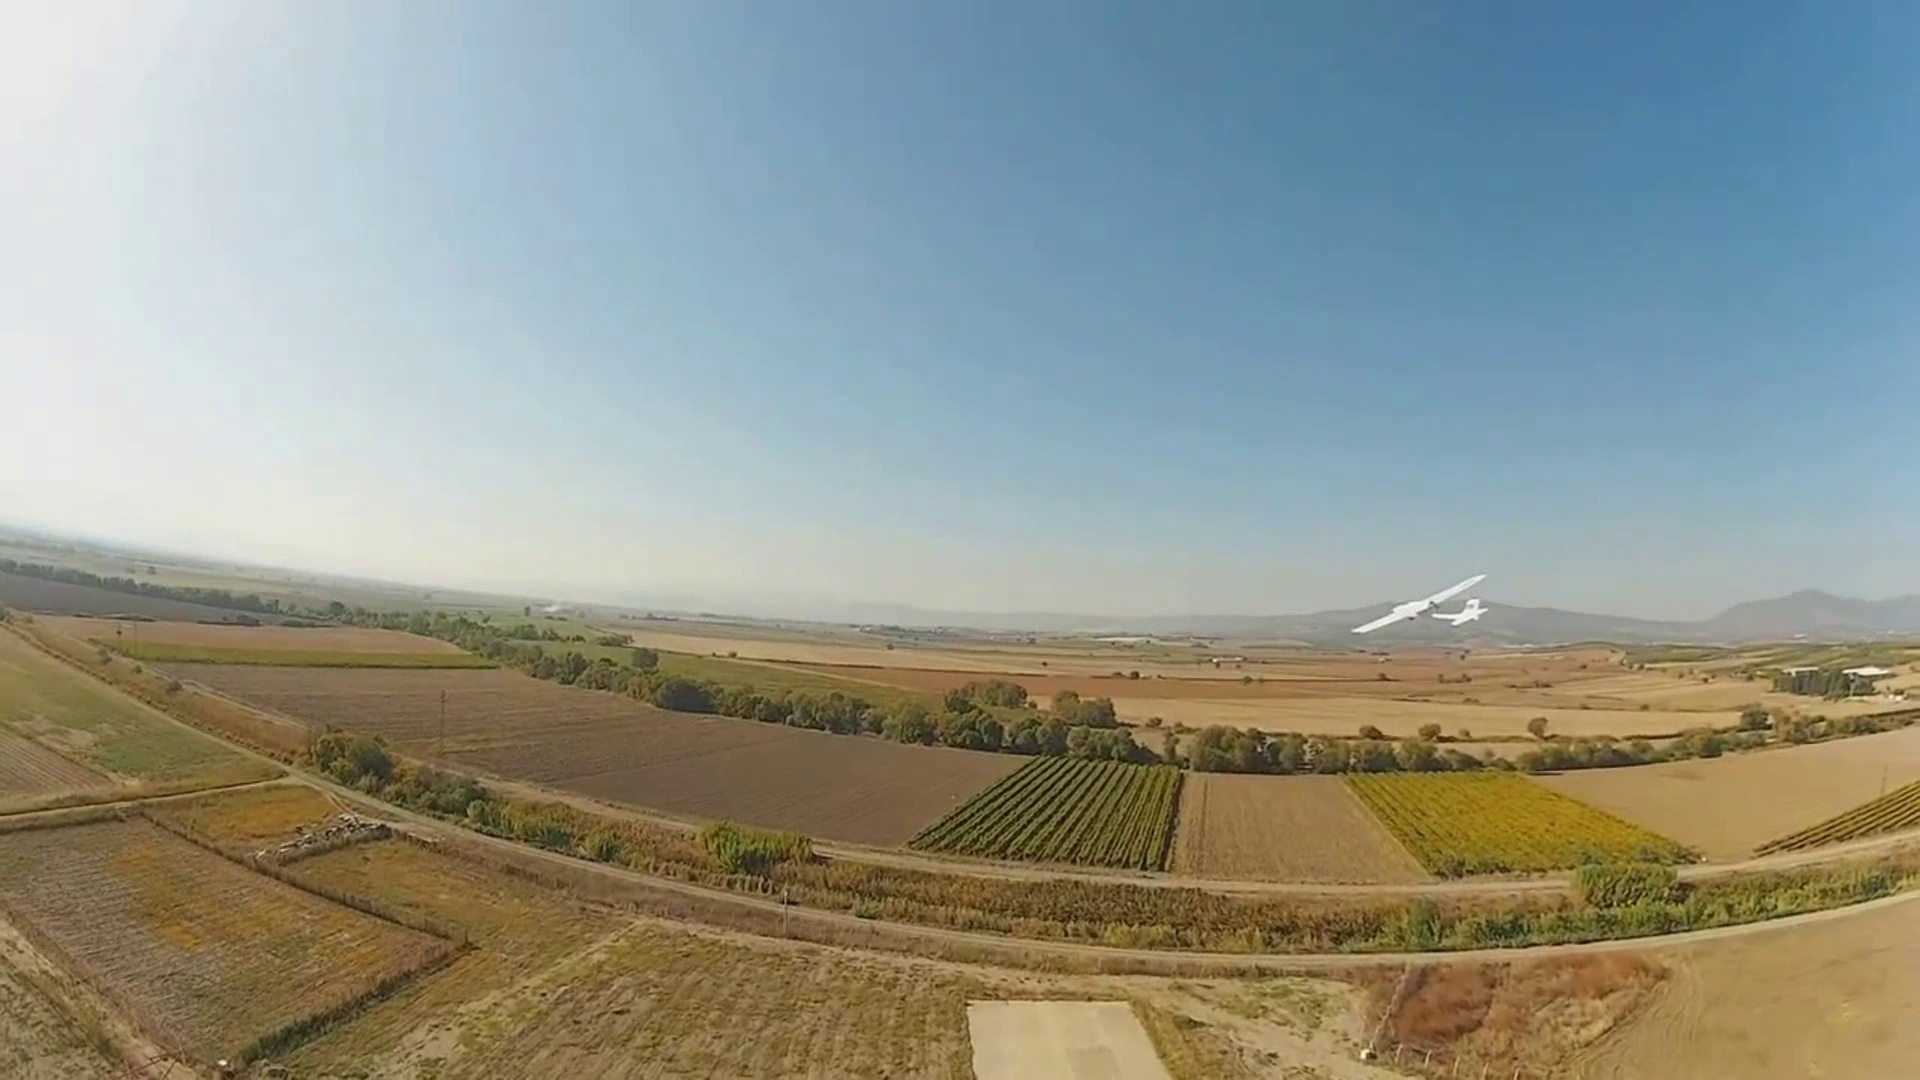airplane: (1349, 574, 1487, 640)
